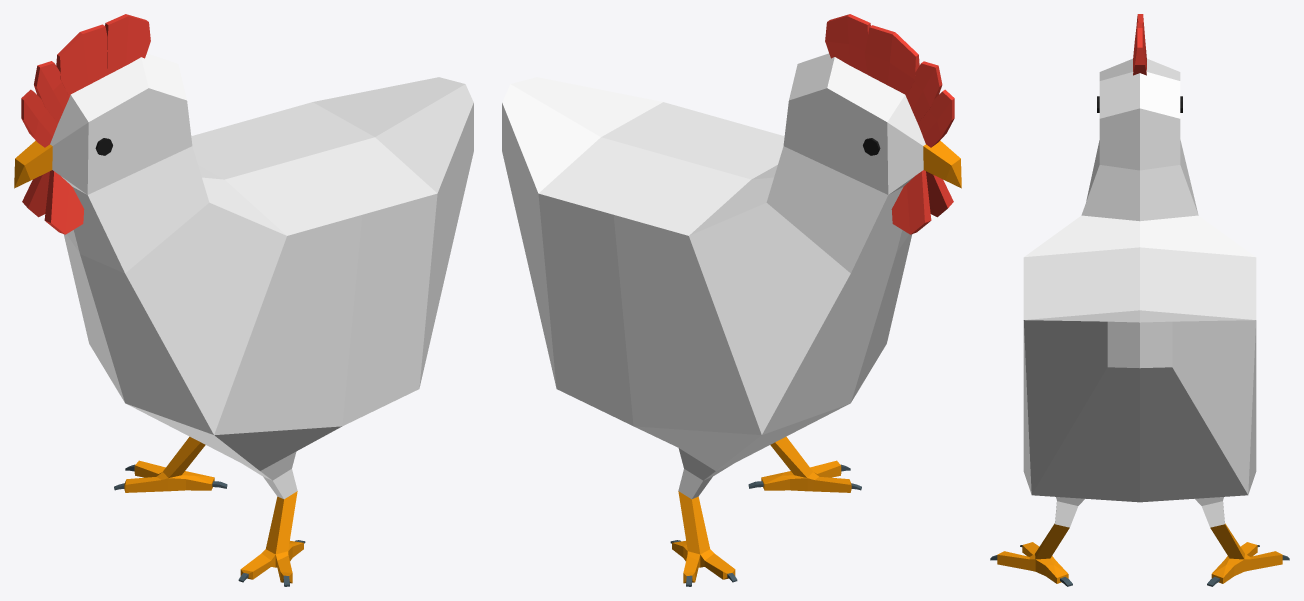
File: product.glb
3 renders of one model, left to right at view 1: azimuth 30°, elevation 25°; view 2: azimuth 150°, elevation 25°; view 3: azimuth 270°, elevation 25°, orthographic. The views are drawn at different scales.
Parts seen in each view (by area): view 1: Cube.035_Cube.034; view 2: Cube.035_Cube.034; view 3: Cube.035_Cube.034.
Part boxes in pixels (box(x1,y1,x2,y2)): Cube.035_Cube.034: box(14, 14, 473, 586); Cube.035_Cube.034: box(502, 14, 961, 586); Cube.035_Cube.034: box(990, 14, 1289, 586).
Bounding box in the file's own units: 167 × 189 × 103.
Materials: 1 (1 with a texture image).
